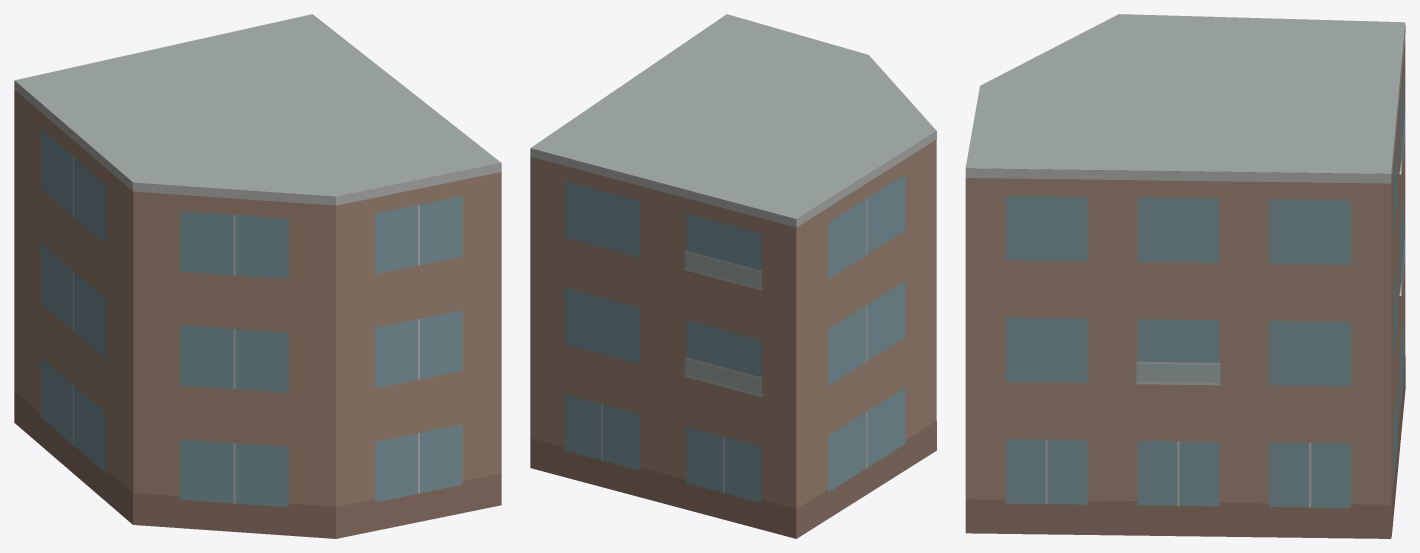
The model's file is survey-upis-32625437.glb.
The picture shows the model from 3 angles, left to right: view 1: azimuth 30°, elevation 25°; view 2: azimuth 150°, elevation 25°; view 3: azimuth 270°, elevation 25°; orthographic projection. The views are drawn at different scales.
Visible parts, largest first — view 1: survey-upis-32625437.tmp; view 2: survey-upis-32625437.tmp; view 3: survey-upis-32625437.tmp.
Part boxes in pixels (x1,y1,x2,y2): survey-upis-32625437.tmp: (14,14,501,538); survey-upis-32625437.tmp: (530,14,936,538); survey-upis-32625437.tmp: (965,14,1405,538).
Bounding box in the file's own units: 8.65 × 9.2 × 10.06.
